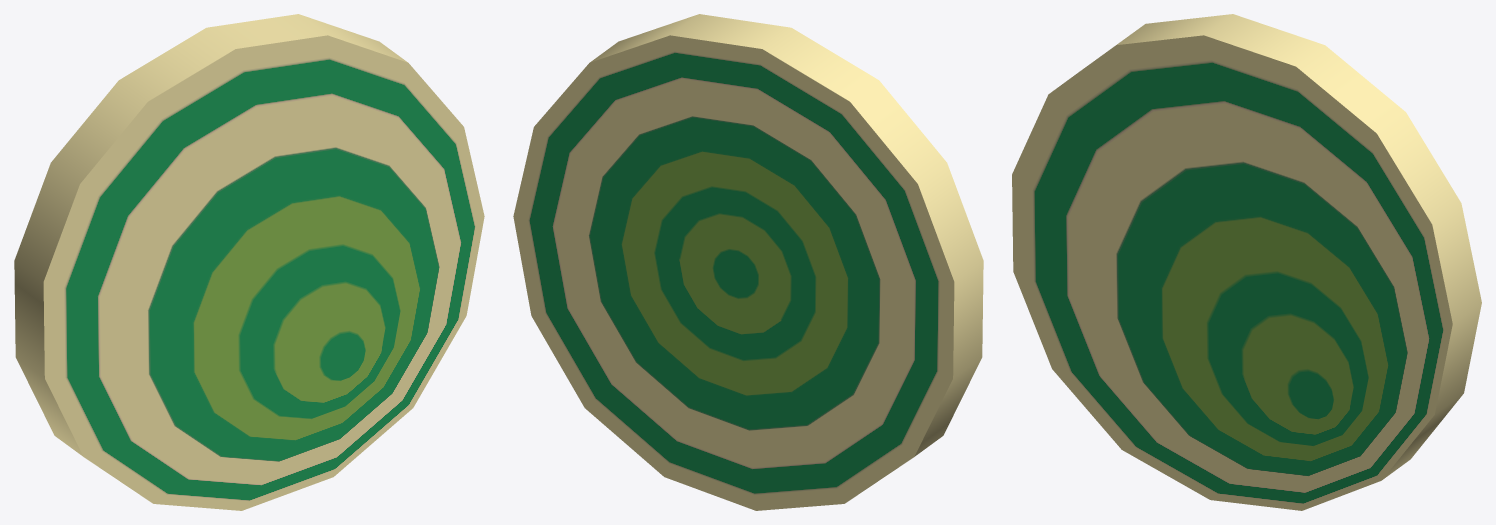
File: M_eyes_01.fbx
3 renders of one model, left to right at view 1: azimuth 30°, elevation 25°; view 2: azimuth 150°, elevation 25°; view 3: azimuth 330°, elevation 25°, orthographic.
Visible parts, largest first — view 1: Cube.016; view 2: Cube.016; view 3: Cube.016.
Part boxes in pixels (<box>): Cube.016: <box>14,14,484,510</box>; Cube.016: <box>513,14,983,510</box>; Cube.016: <box>1012,14,1481,510</box>.
Bounding box in the file's own units: 284 × 285 × 32.53.
